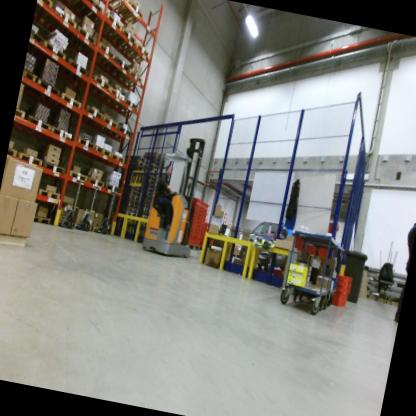forklift: (140, 125, 218, 261)
pallet: (63, 0, 107, 30), (67, 22, 100, 60), (111, 0, 147, 33), (92, 6, 126, 40), (118, 38, 154, 69), (35, 37, 72, 65), (49, 7, 81, 39), (89, 38, 118, 72), (102, 49, 131, 82), (108, 26, 141, 54), (117, 65, 148, 92), (111, 92, 141, 119), (81, 74, 111, 100), (100, 82, 128, 109), (60, 58, 91, 81), (33, 75, 63, 98), (0, 228, 28, 251), (58, 90, 84, 113), (50, 122, 78, 143), (24, 113, 54, 132), (81, 101, 105, 124), (33, 0, 56, 23), (113, 124, 137, 146), (98, 0, 133, 14), (35, 185, 61, 203), (41, 159, 70, 175), (122, 148, 151, 164), (27, 27, 45, 52), (100, 114, 120, 136), (17, 151, 43, 167), (90, 219, 113, 237), (93, 143, 113, 162), (74, 136, 98, 151), (126, 157, 151, 171), (52, 219, 77, 232), (66, 169, 89, 183), (28, 213, 52, 226), (71, 221, 93, 235), (139, 149, 167, 160), (22, 67, 39, 84), (13, 103, 27, 123), (85, 176, 106, 189), (120, 183, 143, 194), (127, 164, 149, 175), (6, 146, 19, 163), (121, 197, 145, 206), (103, 183, 121, 194), (121, 200, 140, 210), (124, 188, 144, 197), (110, 154, 126, 164), (148, 154, 162, 165), (124, 193, 141, 200), (123, 206, 140, 213), (122, 210, 136, 218), (146, 160, 159, 168), (138, 206, 150, 214), (138, 211, 149, 219), (144, 179, 155, 187), (137, 214, 149, 221), (142, 192, 154, 199), (140, 202, 150, 210), (145, 163, 158, 169), (145, 175, 156, 182), (144, 188, 155, 194), (147, 171, 157, 177), (143, 185, 154, 190), (142, 197, 152, 202), (148, 167, 158, 172), (141, 200, 152, 204)
pallet_truck: (57, 169, 88, 232), (79, 182, 104, 234), (95, 186, 121, 236)
small_load_carrier: (324, 285, 350, 310), (330, 269, 356, 283), (334, 280, 354, 288)
